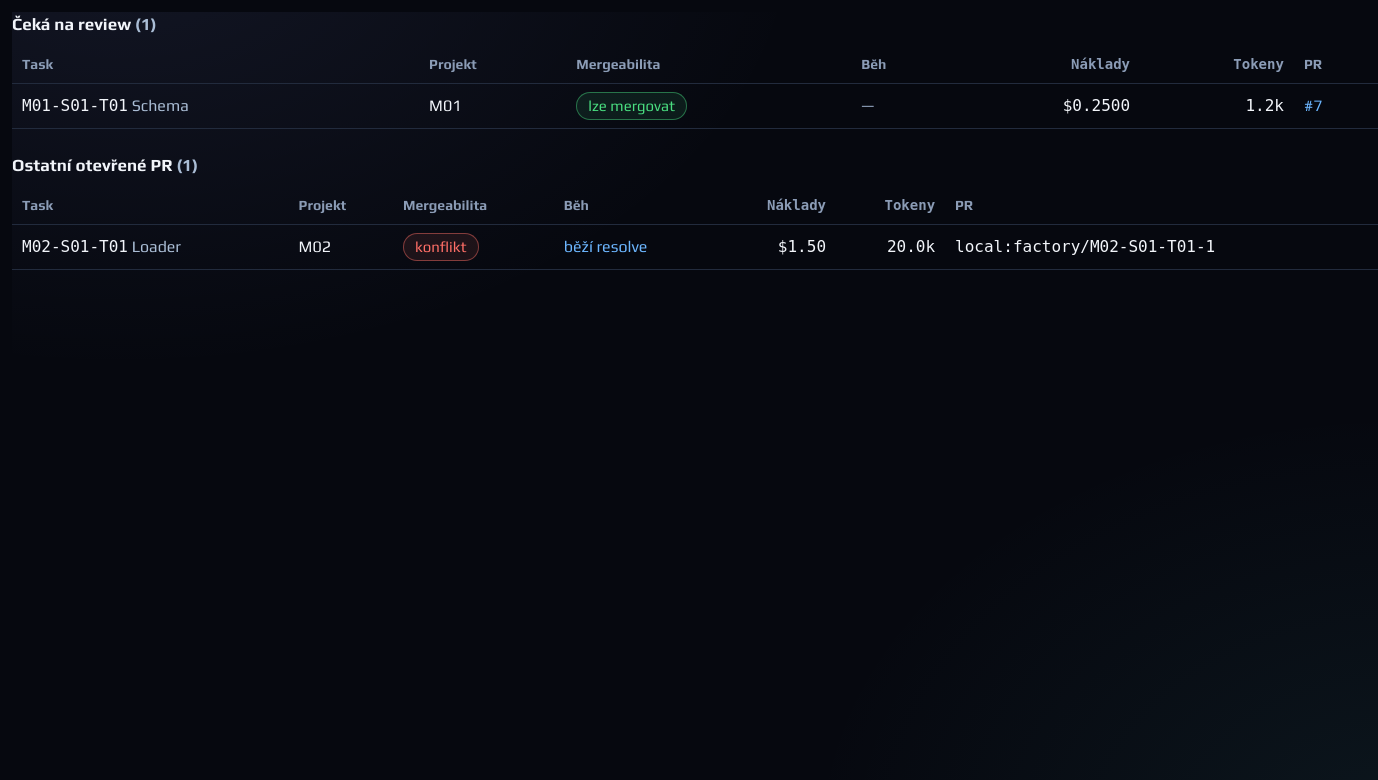
Test: ReviewList › names the project column by the top level and shows the title of codes
Hover over the text with test id "tip-anchor" showing "M01": (445, 106) left=429, top=94, right=461, bottom=118
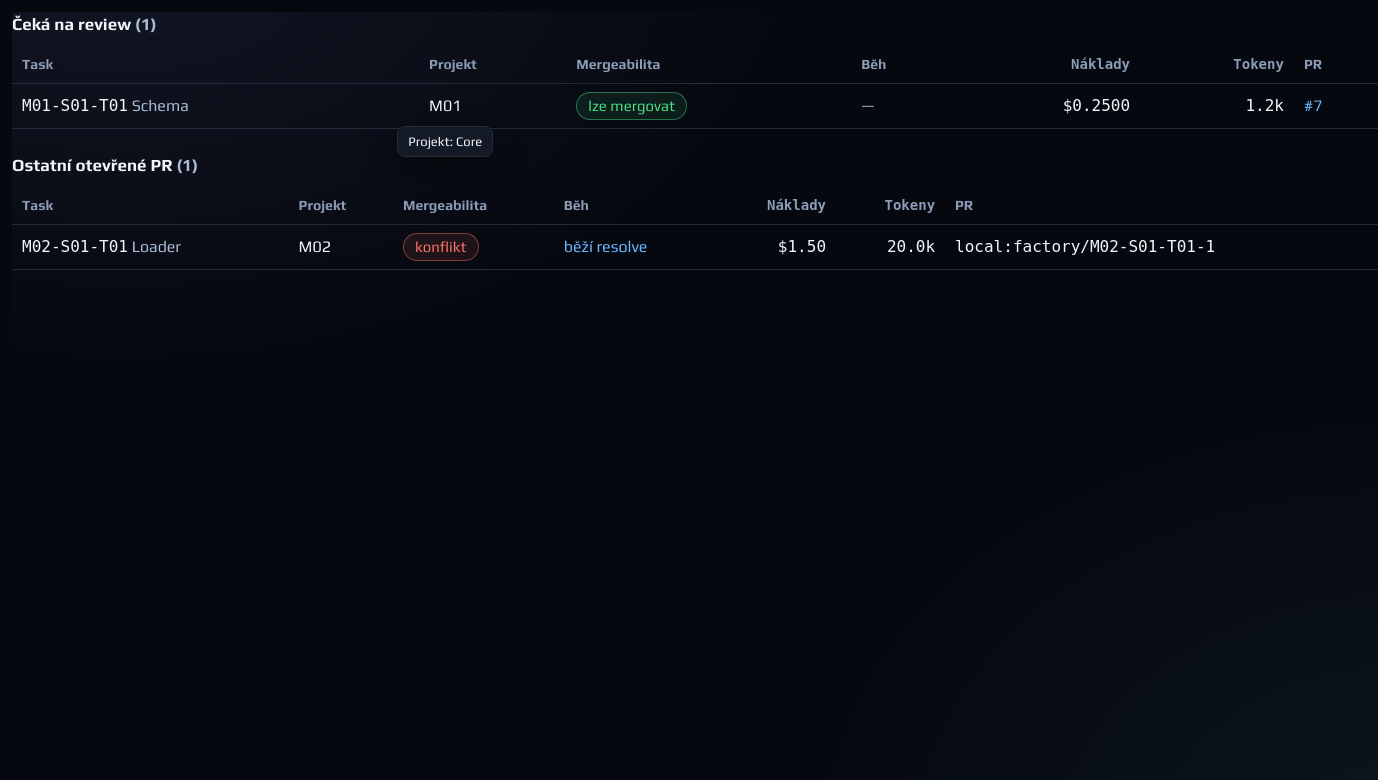
Expected: the tooltip with test id "tooltip" reads "Projekt: Core", left=408, top=134, right=482, bottom=149
